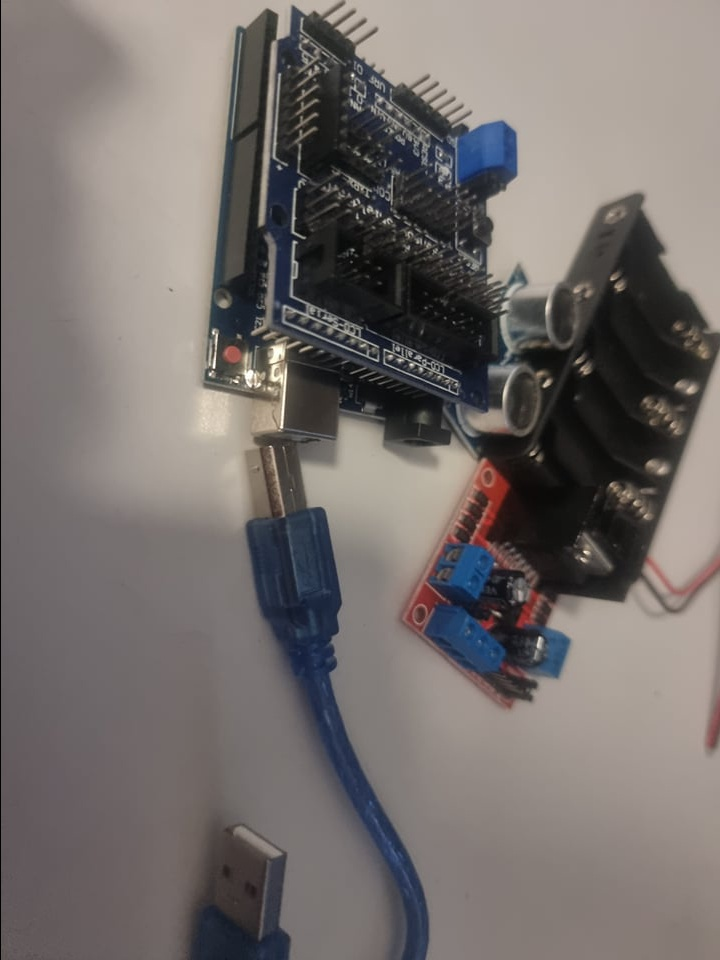5V EXPANSION: (264, 6, 518, 393)
BATTERY BOX: (514, 188, 716, 604)
MOTOR: (399, 467, 632, 716)
SENSOR: (448, 259, 581, 453)
UNO R3: (184, 343, 443, 450)
